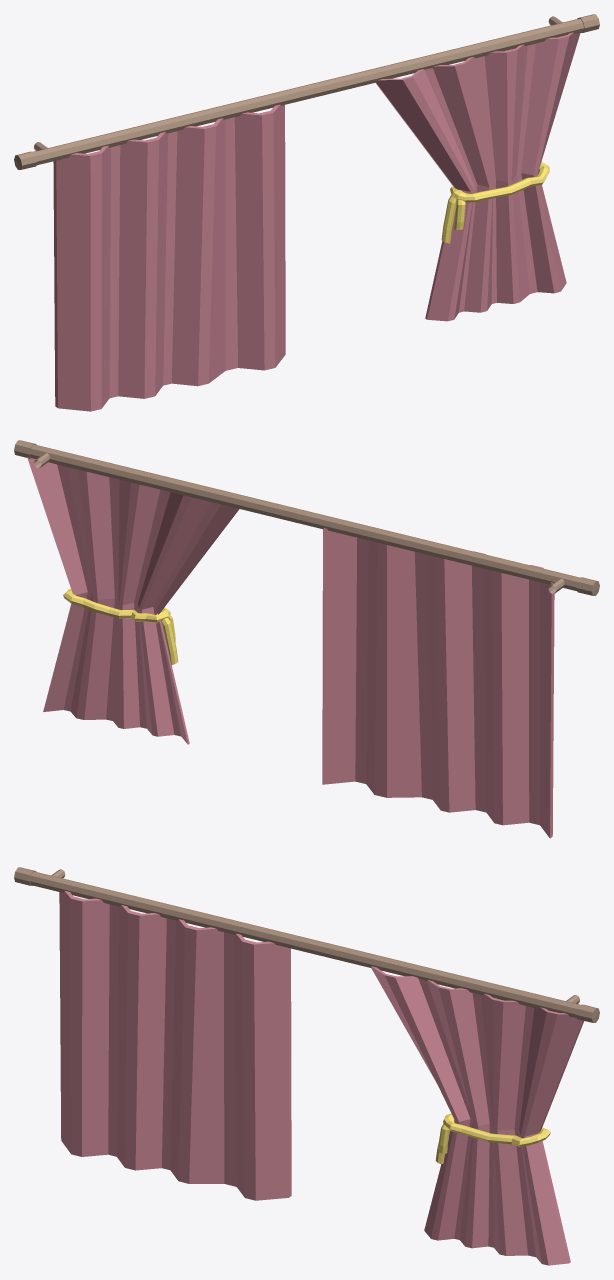
File: Curtains_12.fbx
The picture shows the model from 3 angles, top to bottom: view 1: azimuth 30°, elevation 25°; view 2: azimuth 150°, elevation 25°; view 3: azimuth 330°, elevation 25°; orthographic projection.
Parts seen in each view (by area): view 1: Curtains_12; view 2: Curtains_12; view 3: Curtains_12.
Part boxes in pixels (box(x1,y1,x2,y2)): Curtains_12: box(14, 14, 599, 411); Curtains_12: box(14, 440, 599, 838); Curtains_12: box(14, 867, 599, 1265).
Bounding box in the file's own units: 385 × 28.41 × 169.
